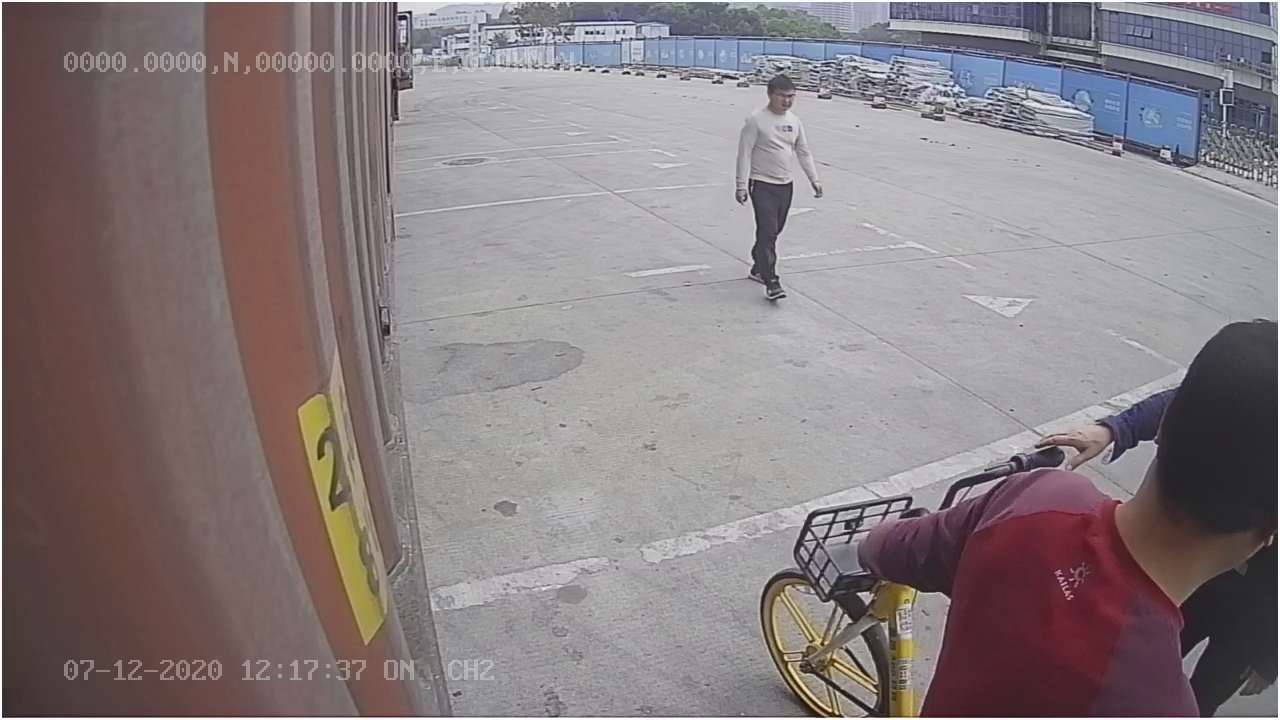person: (727, 71, 824, 300)
